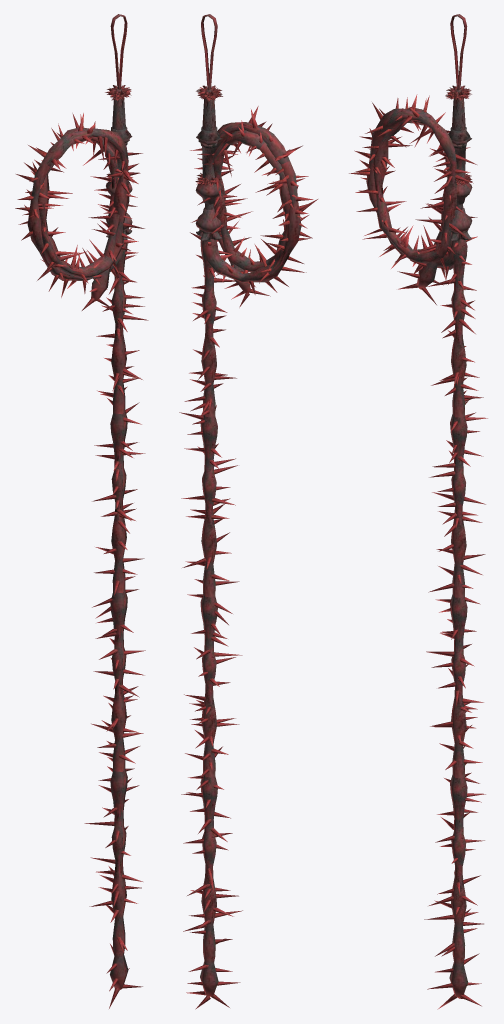
The model's file is weapon-wp_a_1203.glb.
3 views of the same model, side by side, from view 1: azimuth 30°, elevation 25°; view 2: azimuth 150°, elevation 25°; view 3: azimuth 330°, elevation 25° (orthographic).
Parts seen in each view (by area): view 1: wp_a_1203_mesh; view 2: wp_a_1203_mesh; view 3: wp_a_1203_mesh.
Boxes of the visible parts, x1,y1,x2,y2 form: wp_a_1203_mesh: (15,14,148,1008); wp_a_1203_mesh: (179,14,317,1009); wp_a_1203_mesh: (349,14,487,1009).
Size of the model in its own units: 0.3505 by 2.56 by 0.1746.
2 materials, 2 textured.
